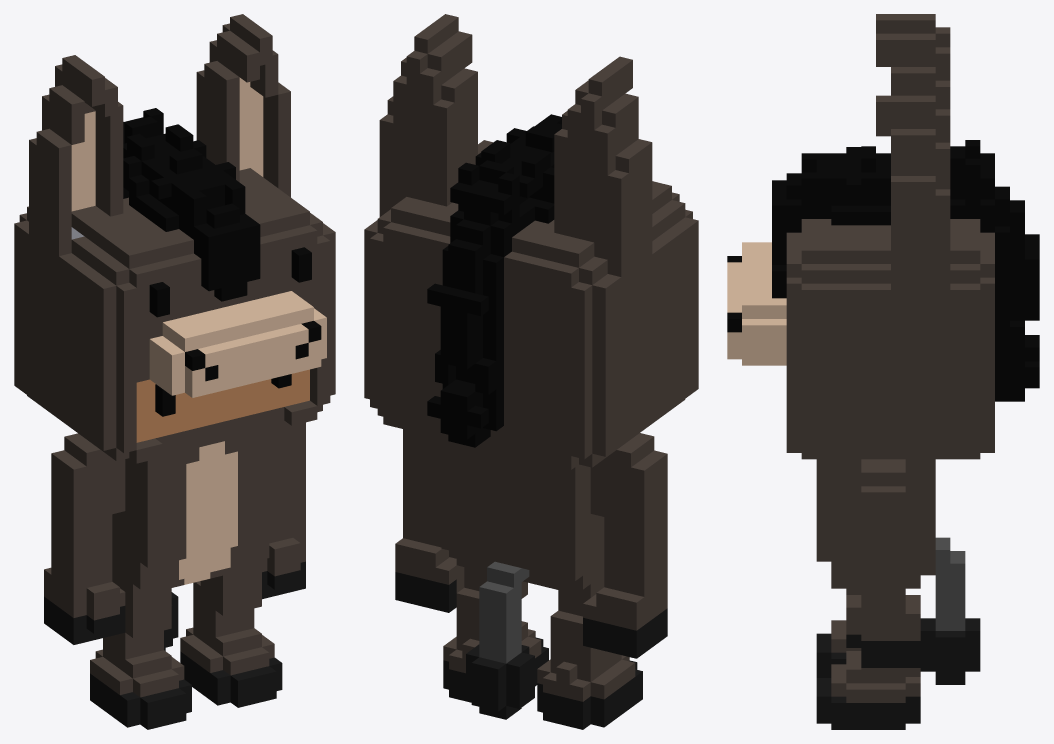
The model's file is asset.glb.
3 views of the same model, side by side, from view 1: azimuth 30°, elevation 25°; view 2: azimuth 150°, elevation 25°; view 3: azimuth 270°, elevation 25° (orthographic). The views are drawn at different scales.
Visible parts, largest first — view 1: Cube.901; view 2: Cube.901; view 3: Cube.901.
Boxes of the visible parts, <box> form: Cube.901: <box>14,14,335,729</box>; Cube.901: <box>364,14,698,729</box>; Cube.901: <box>727,14,1039,729</box>.
Bounding box in the file's own units: 18 × 47 × 21.
